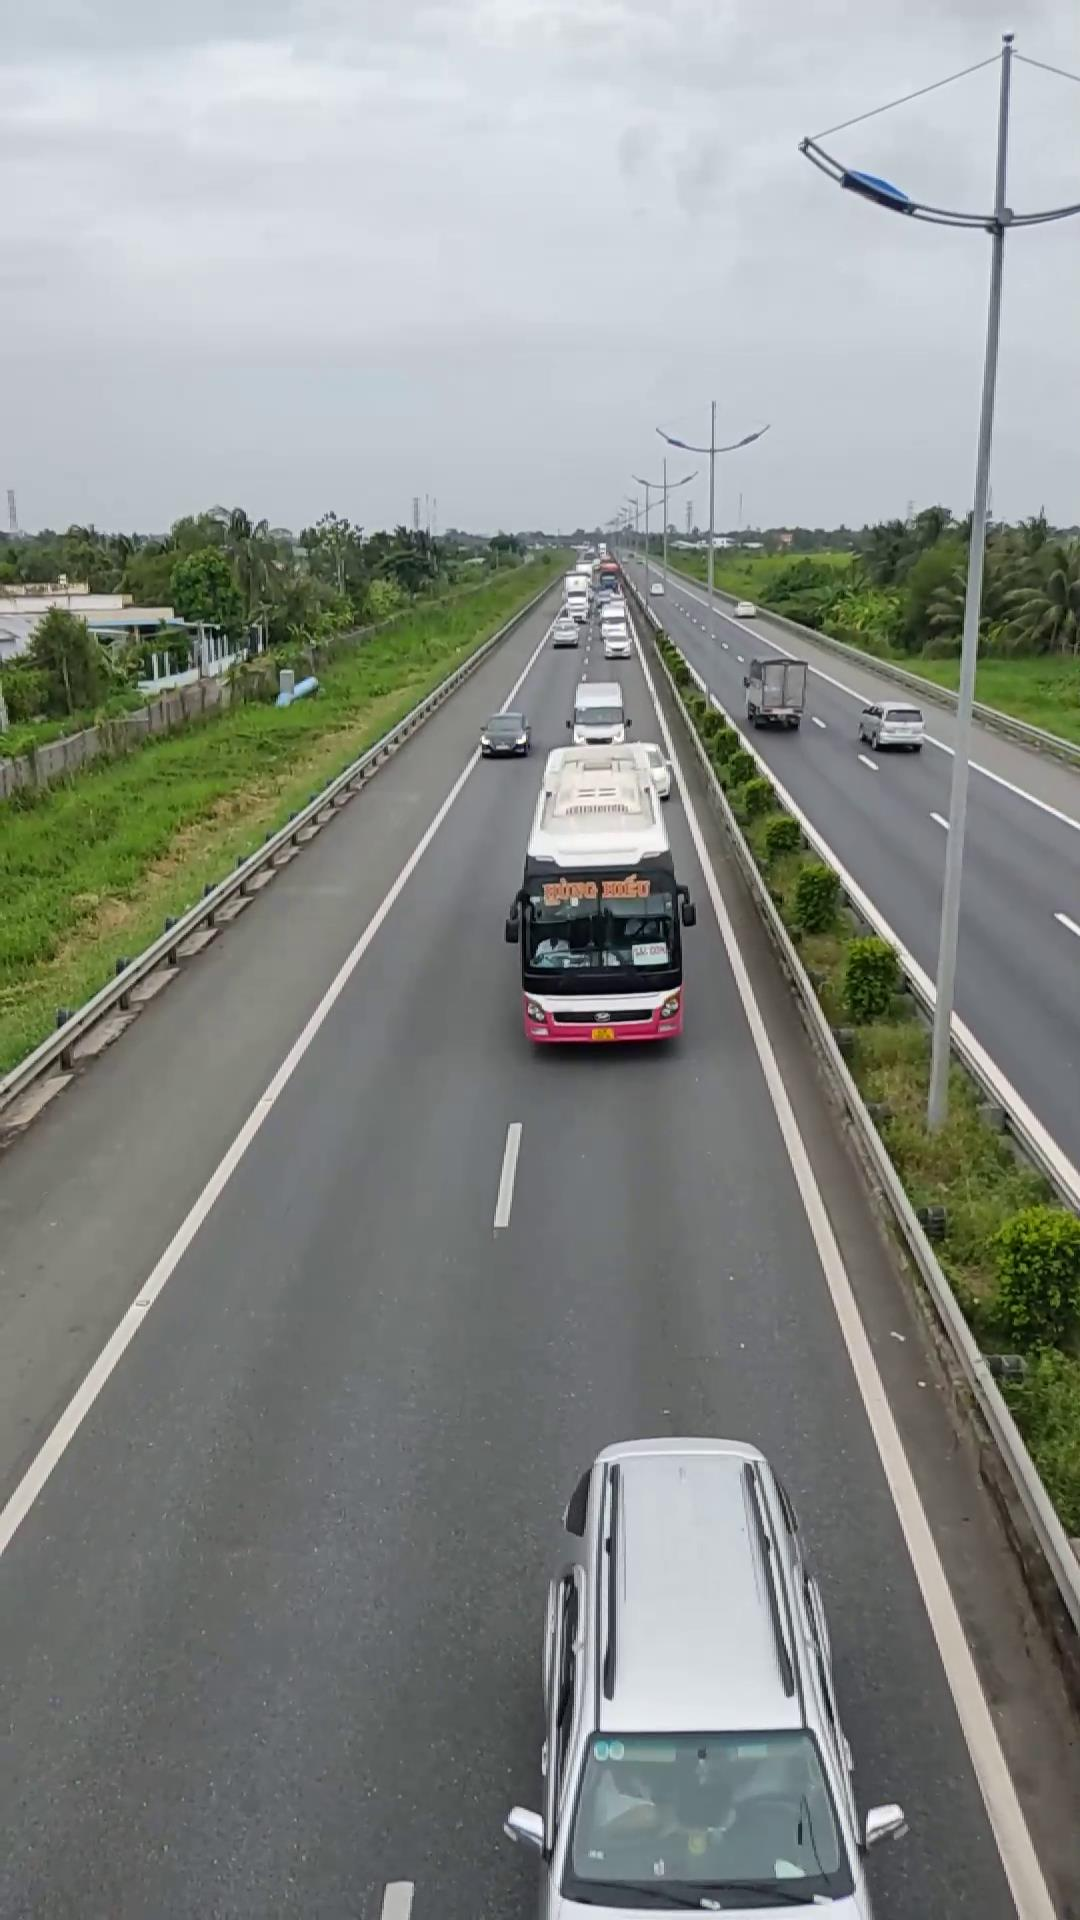bus: (505, 741, 691, 1052)
car: (529, 1429, 884, 1919)
truck: (742, 653, 807, 728)
